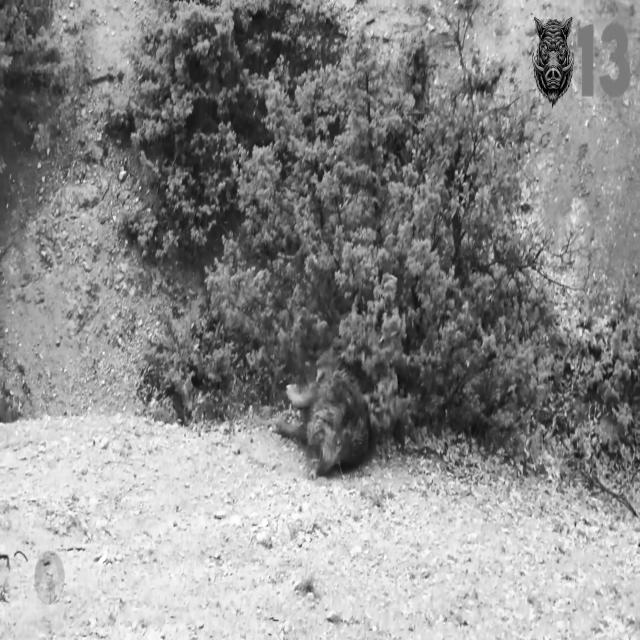boar: (275, 347, 369, 477)
